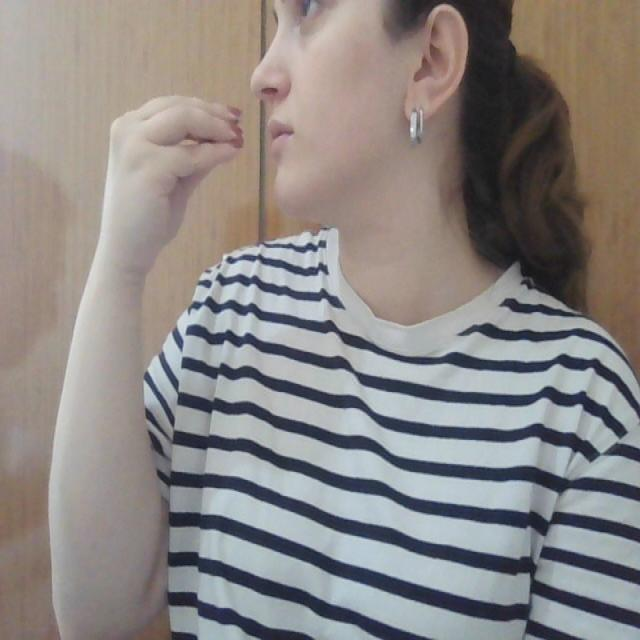Yemek: (111, 92, 294, 177)
